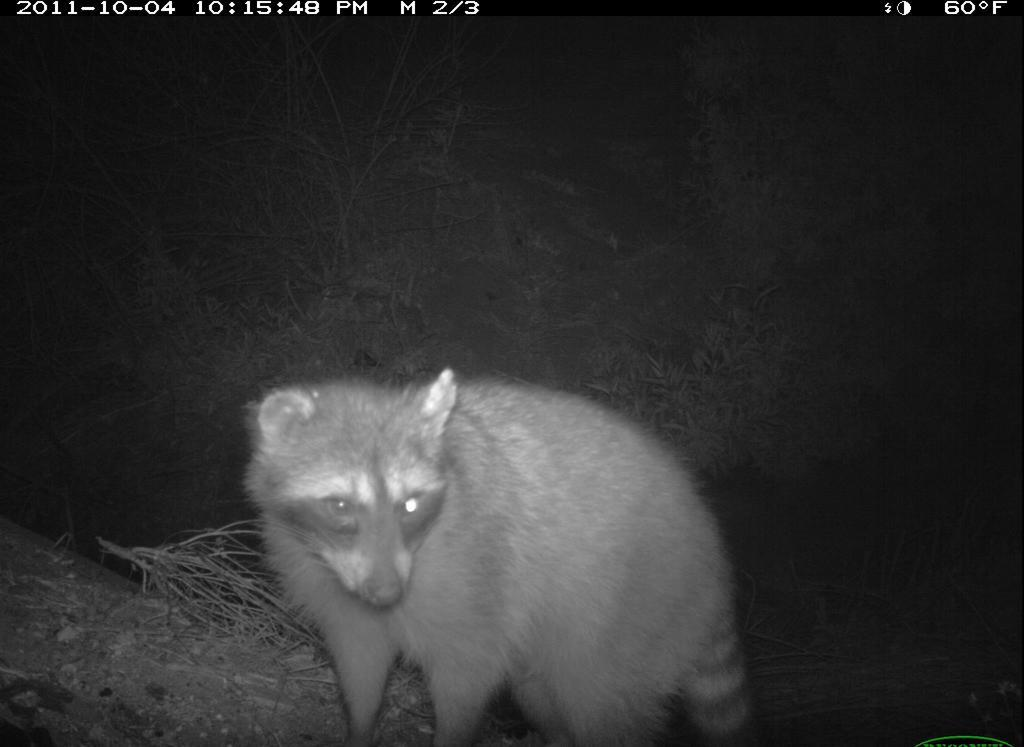raccoon: (228, 361, 781, 747)
